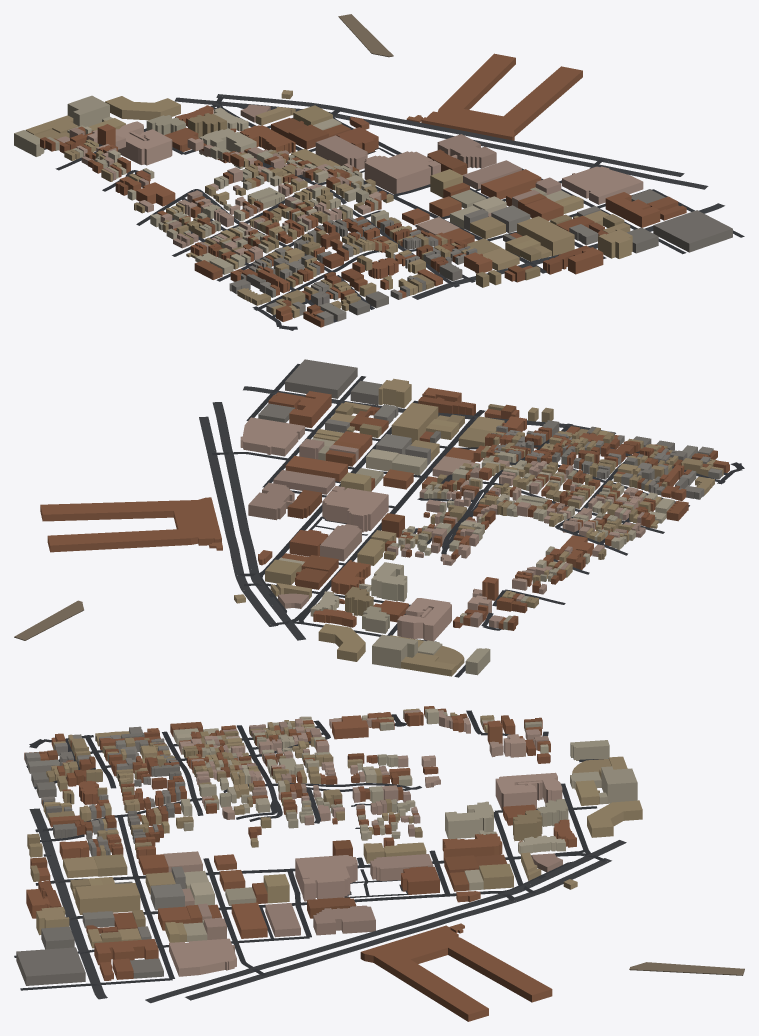
Rendered from tile_13_9.glb.
3 views of the same model, one above another, from view 1: azimuth 30°, elevation 25°; view 2: azimuth 150°, elevation 25°; view 3: azimuth 270°, elevation 25° (orthographic). The views are drawn at different scales.
Parts seen in each view (by area): view 1: bld_13_9, road_13_9, grn_13_9; view 2: bld_13_9, road_13_9, grn_13_9; view 3: bld_13_9, road_13_9, grn_13_9.
Part boxes in pixels (x1=…): bld_13_9: x1=14, y1=53, x2=732, y2=327; road_13_9: x1=44, y1=94, x2=744, y2=330; grn_13_9: x1=338, y1=14, x2=393, y2=57; bld_13_9: x1=40, y1=359, x2=729, y2=676; road_13_9: x1=199, y1=364, x2=744, y2=677; grn_13_9: x1=14, y1=600, x2=83, y2=640; bld_13_9: x1=16, y1=706, x2=642, y2=1021; road_13_9: x1=14, y1=710, x2=626, y2=1003; grn_13_9: x1=629, y1=962, x2=744, y2=975.
Bounding box in the file's own units: 888 × 105 × 1003.
